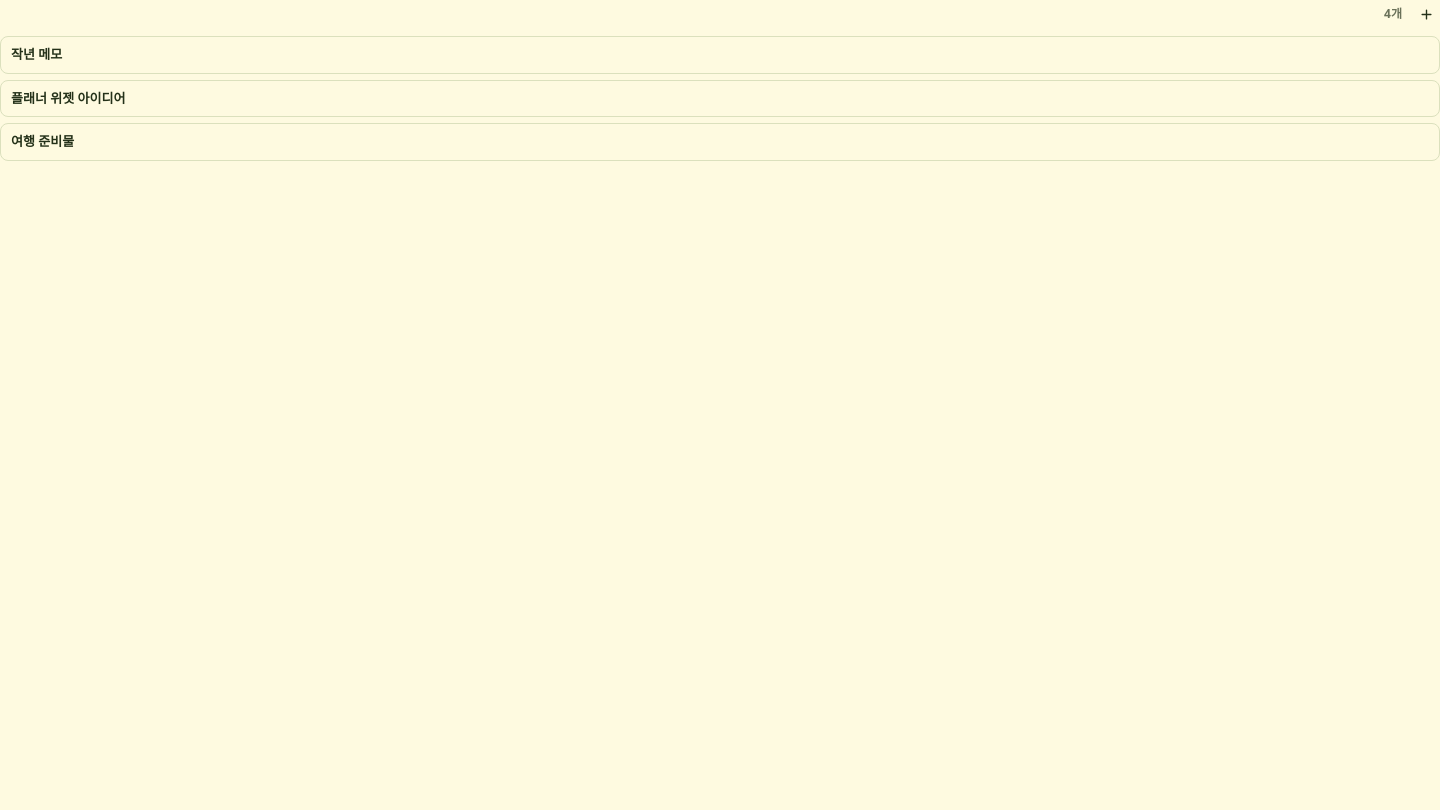
it: PC 사이드바 메모 섹션 (US-25, D-055) › +를 누르면 메모 창에서 새 메모 (D-055)
Expected: the button named "메모 4개 모두 보기" is shown, [1378,4,1408,24]
Step 1. Click the button named "새 메모" → click(1426, 14), box [1412,0,1439,28]
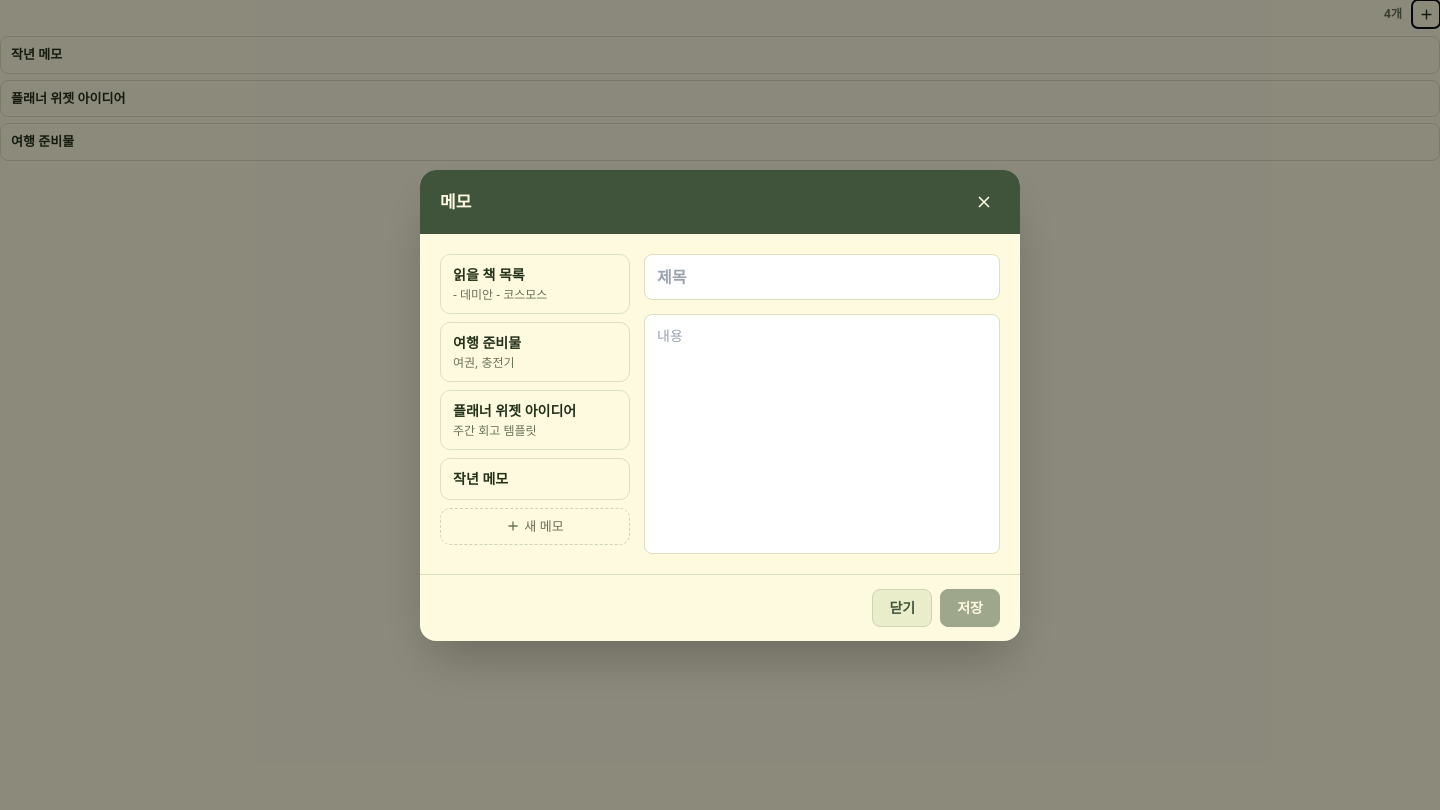
Now the dialog "메모" is shown, box [420,170,1020,640]
Now the field named "메모 제목" is empty, box [644,254,1000,300]
